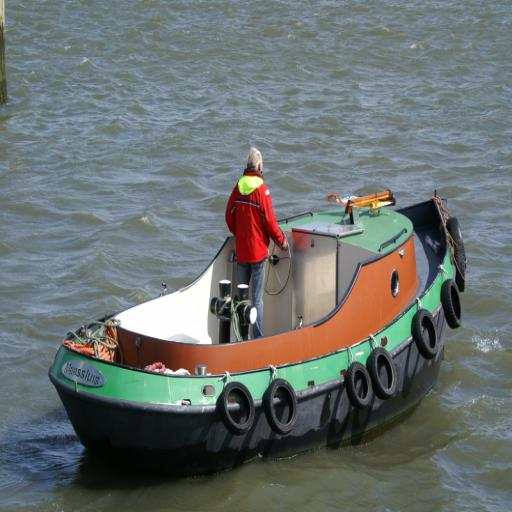tugboat: (45, 139, 472, 490)
